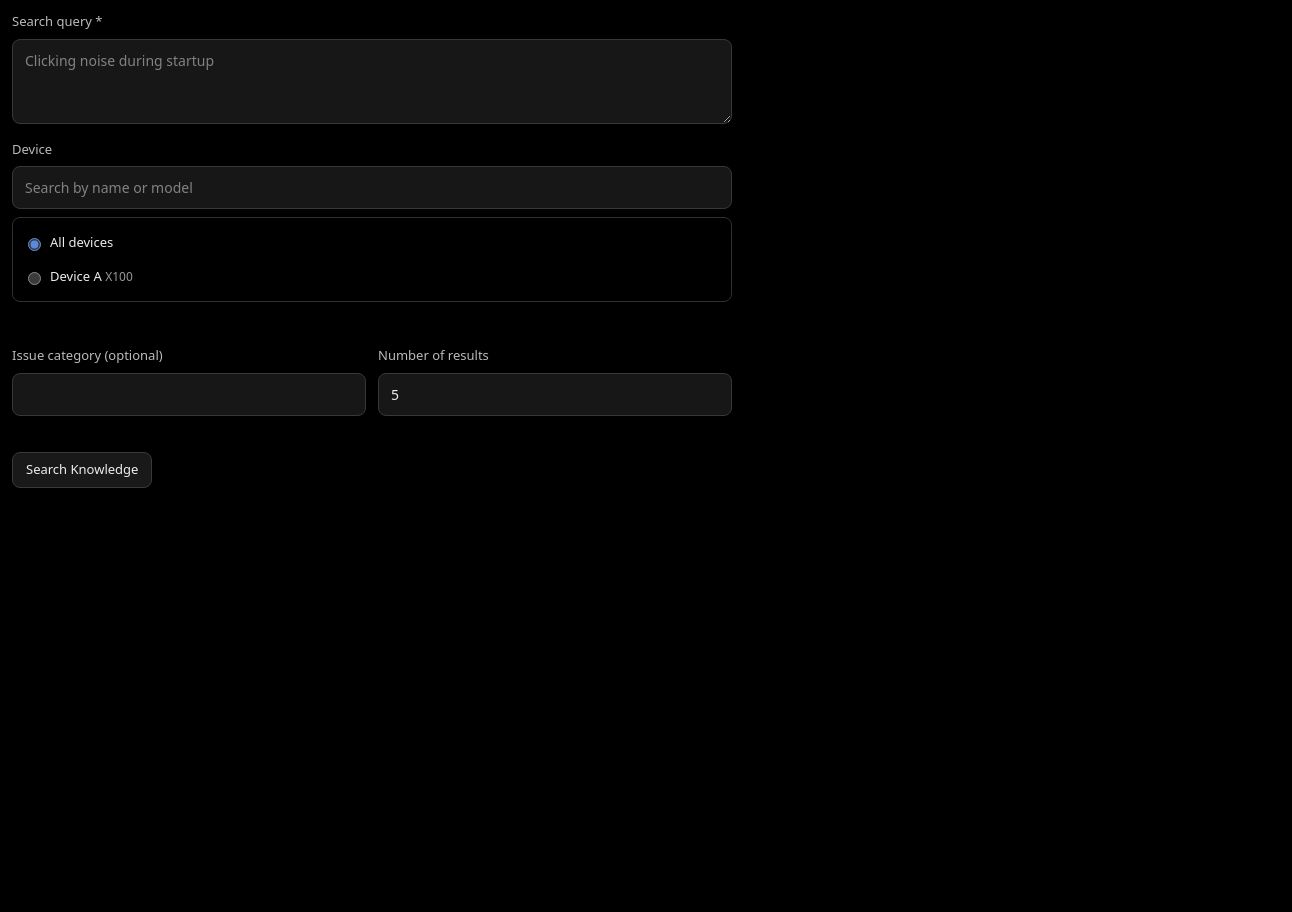
Scenario: knowledge search shows sources and empty results; timeout errors are actionable
Step 1. Type "Clicking" into the text box labelled "Search query *" → [372, 81], box [12, 38, 732, 124]
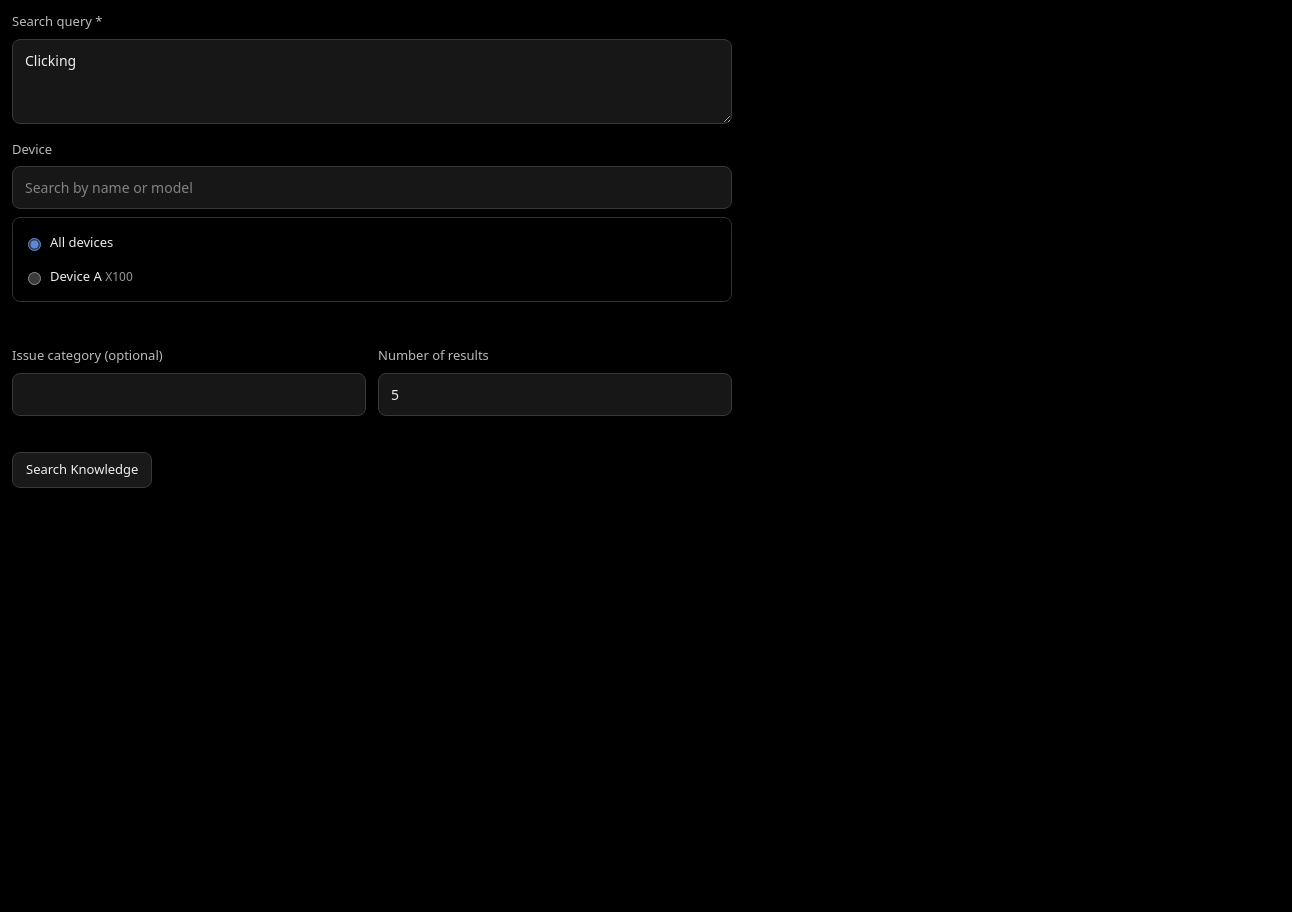
Step 2. Click the button "Search Knowledge" → [82, 470], box [12, 452, 152, 488]
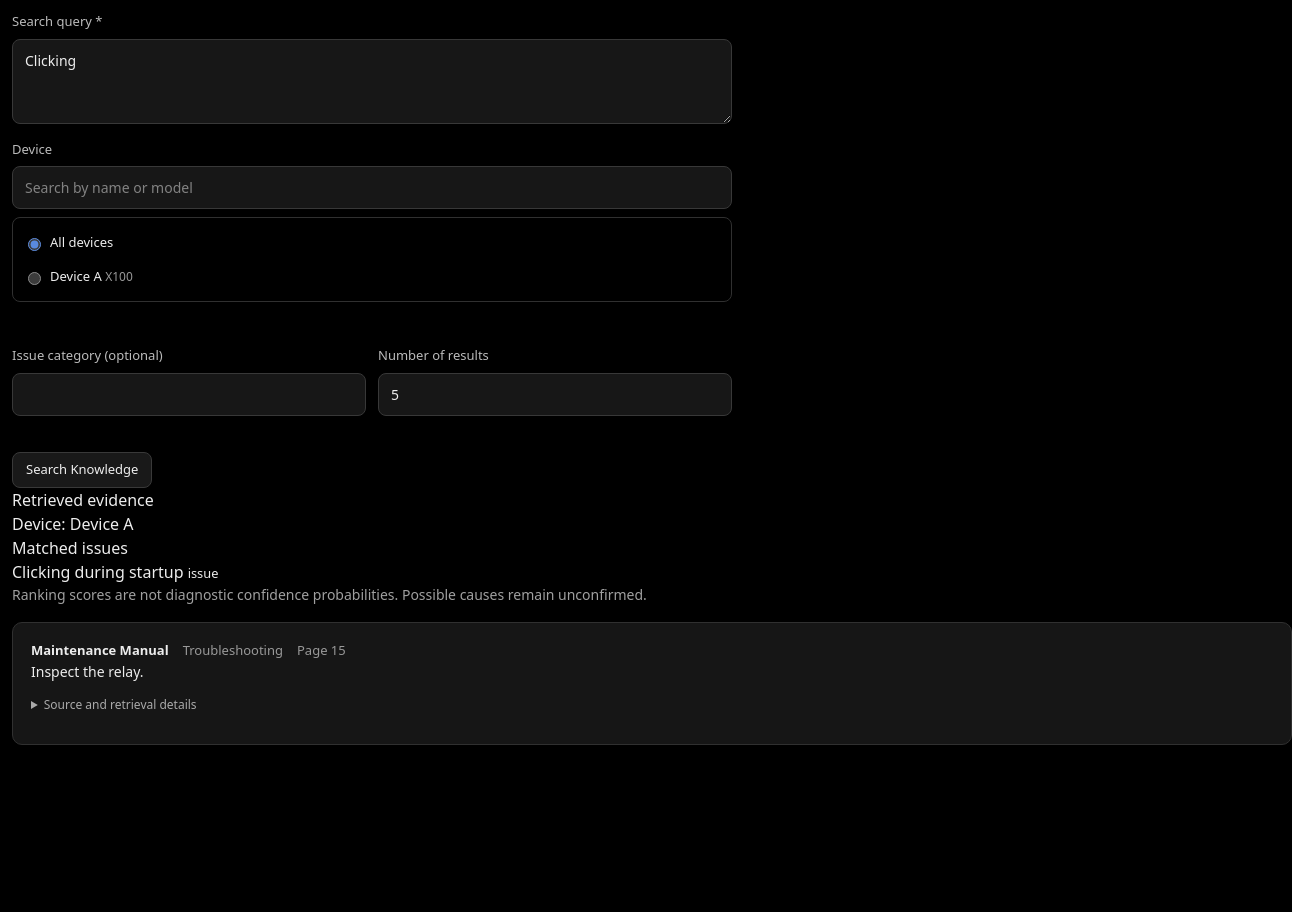
Expected: the text "Inspect the relay." is shown, [31, 662, 144, 681]
Expected: the text "Page 15" is shown, [297, 641, 346, 660]
Expected: the text "not diagnostic confidence probabilities" is shown, [12, 584, 647, 604]
Step 3. Click the button "Search Knowledge" → [82, 470], box [12, 452, 152, 488]
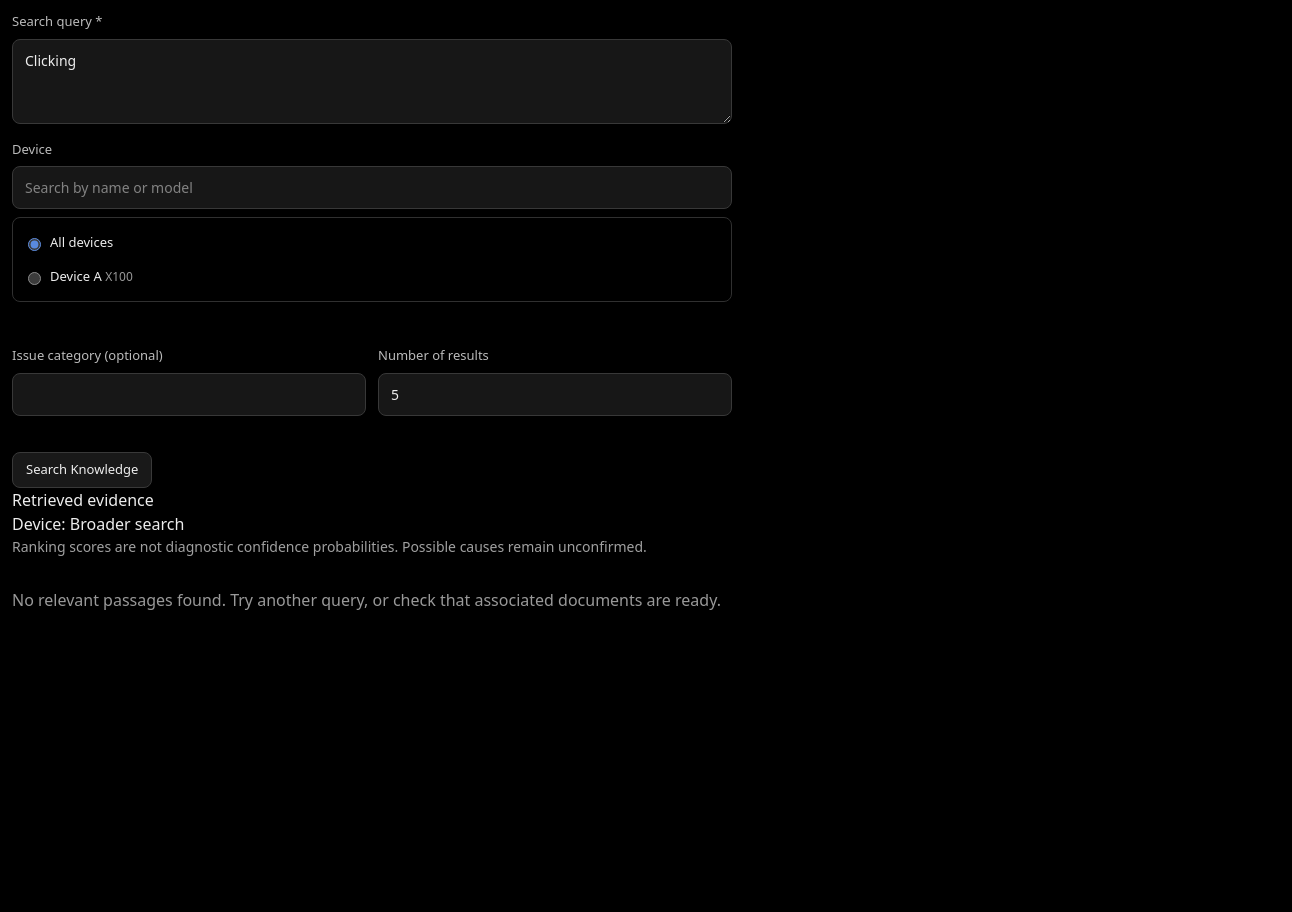
Expected: the text "No relevant passages found" is shown, [12, 589, 721, 611]
Step 4. Click the button "Search Knowledge" → [82, 470], box [12, 452, 152, 488]
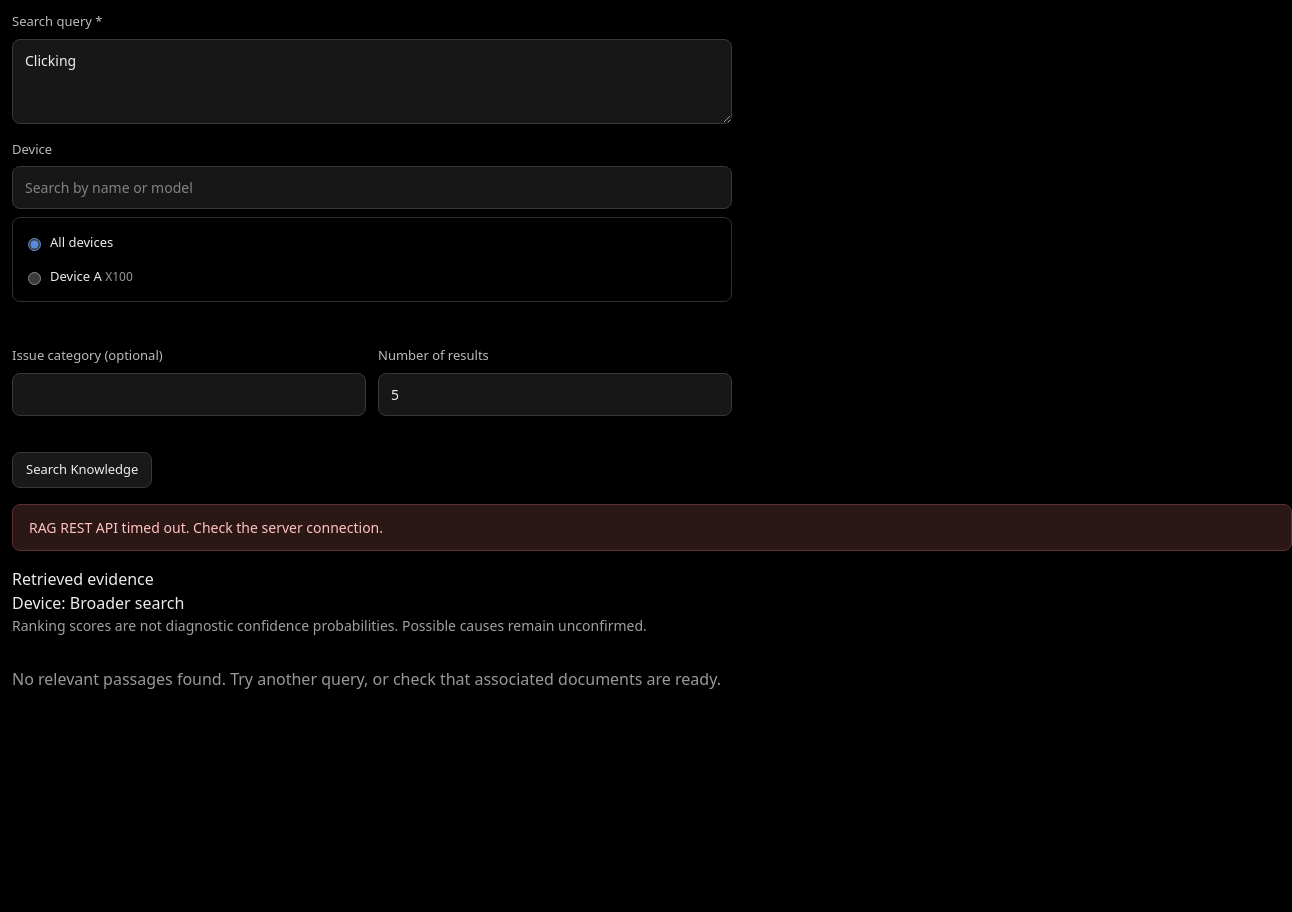
Expected: the message "RAG REST API timed out. Check the server connection." is shown, [12, 504, 1291, 550]
